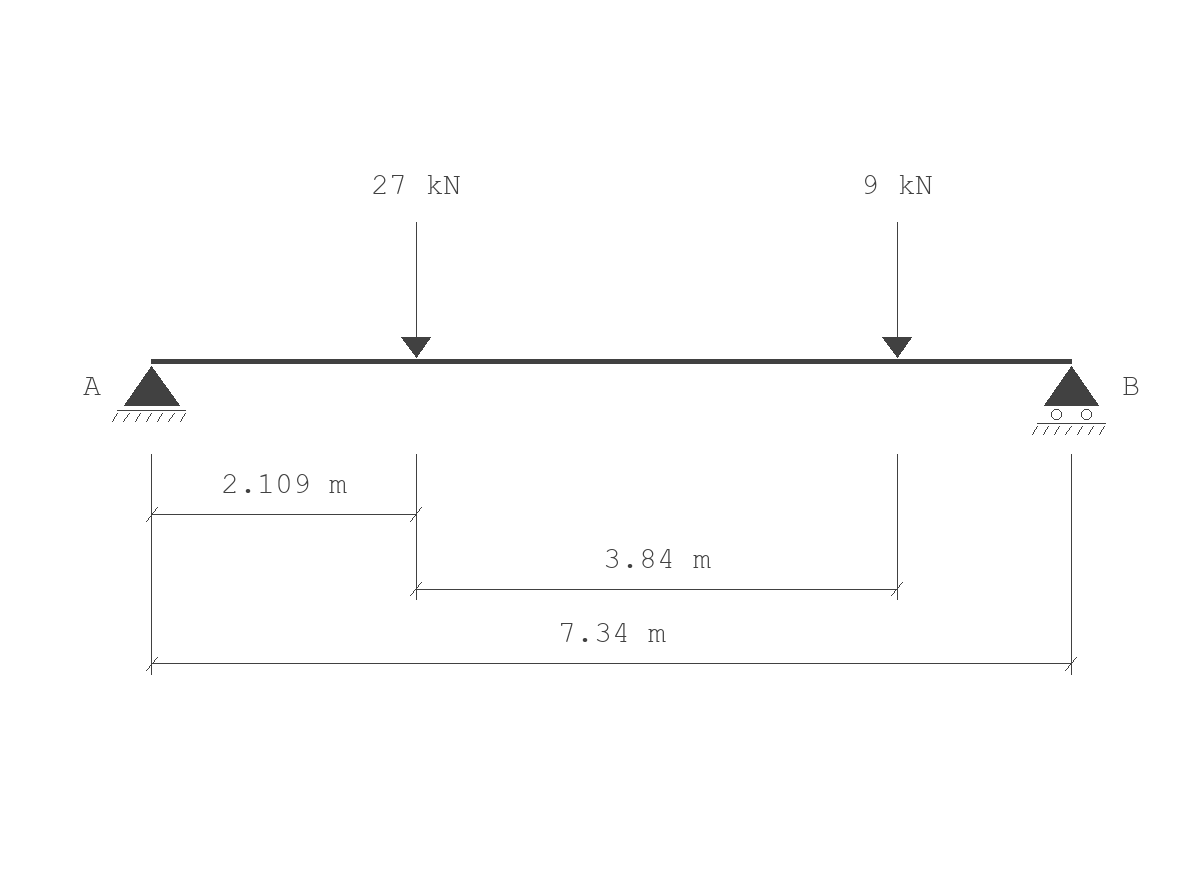pin_support: (112, 366, 186, 422)
point_load: (401, 222, 431, 358), (882, 222, 912, 358)
roller_support: (1032, 366, 1106, 435)
